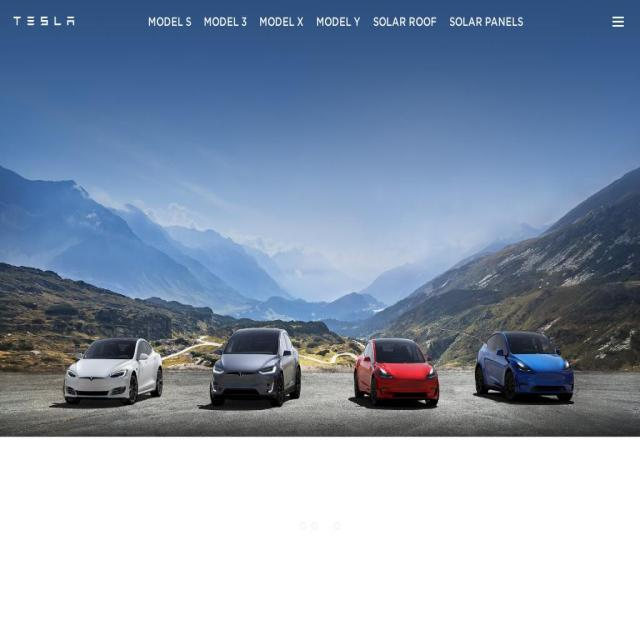button: (12, 0, 75, 42), (449, 14, 523, 29), (373, 14, 437, 29), (259, 14, 304, 29), (316, 14, 361, 29), (148, 14, 191, 29), (204, 14, 247, 29)
heading: (13, 11, 75, 31)
image: (0, 0, 640, 640), (318, 582, 322, 598)
